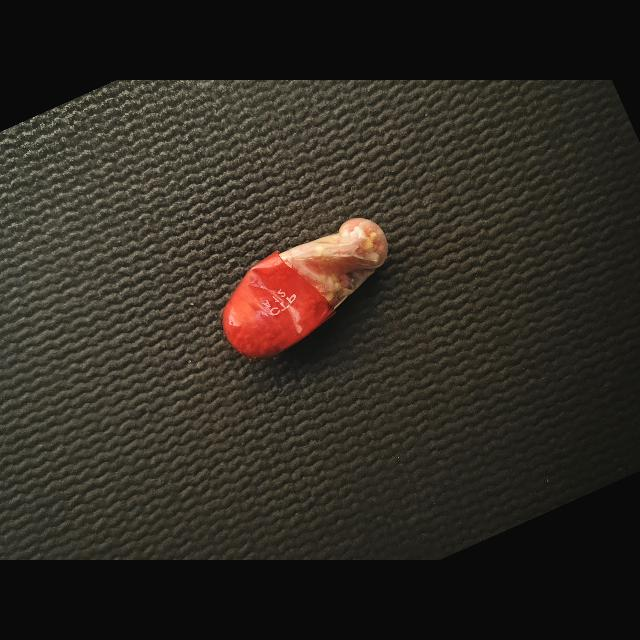Defective Capsule: (223, 218, 388, 358)
